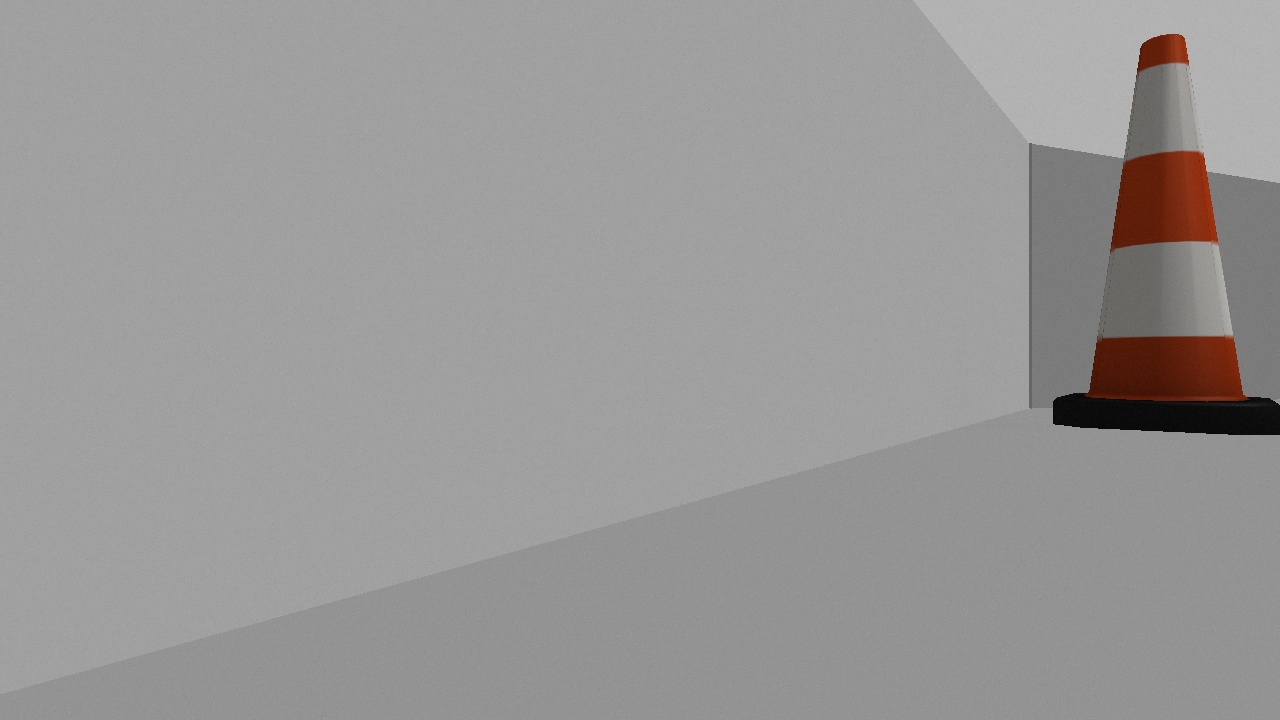barricade: (1039, 30, 1280, 462)
